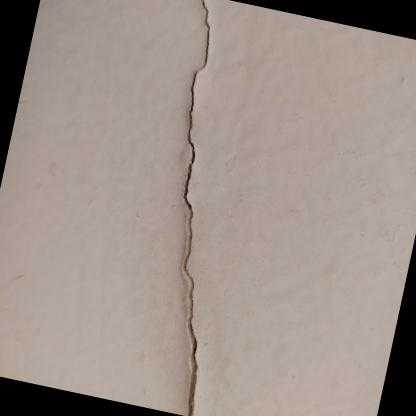crack: (181, 0, 210, 416)
